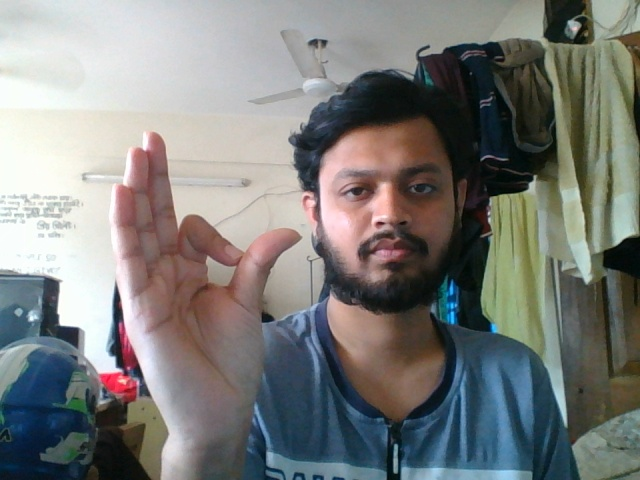uo: (106, 122, 305, 453)
